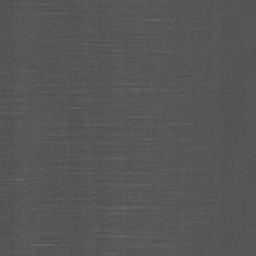Waist folding: (0, 82, 256, 151), (0, 140, 207, 216), (0, 0, 211, 70), (0, 228, 256, 254), (0, 68, 35, 73), (219, 61, 256, 65), (181, 3, 213, 7), (192, 198, 216, 203), (178, 220, 204, 224)
